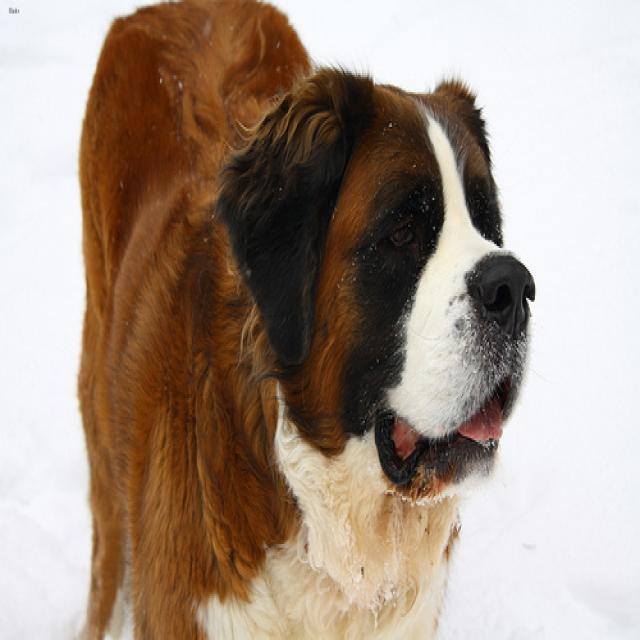dog-saint_bernard: (68, 2, 540, 636)
